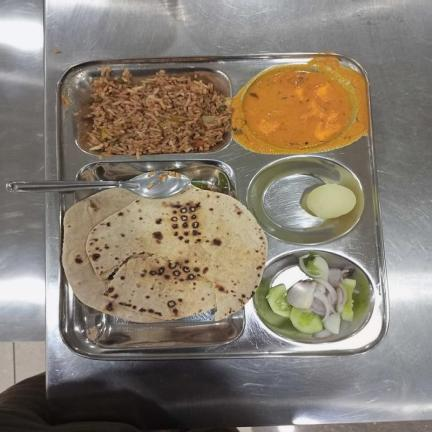Chhaina: (307, 183, 357, 219)
Fried Rice: (85, 62, 233, 157)
Paneer: (243, 67, 352, 148)
Plate: (57, 54, 390, 360)
Roti: (62, 181, 267, 324)
Salad: (265, 252, 356, 339)
